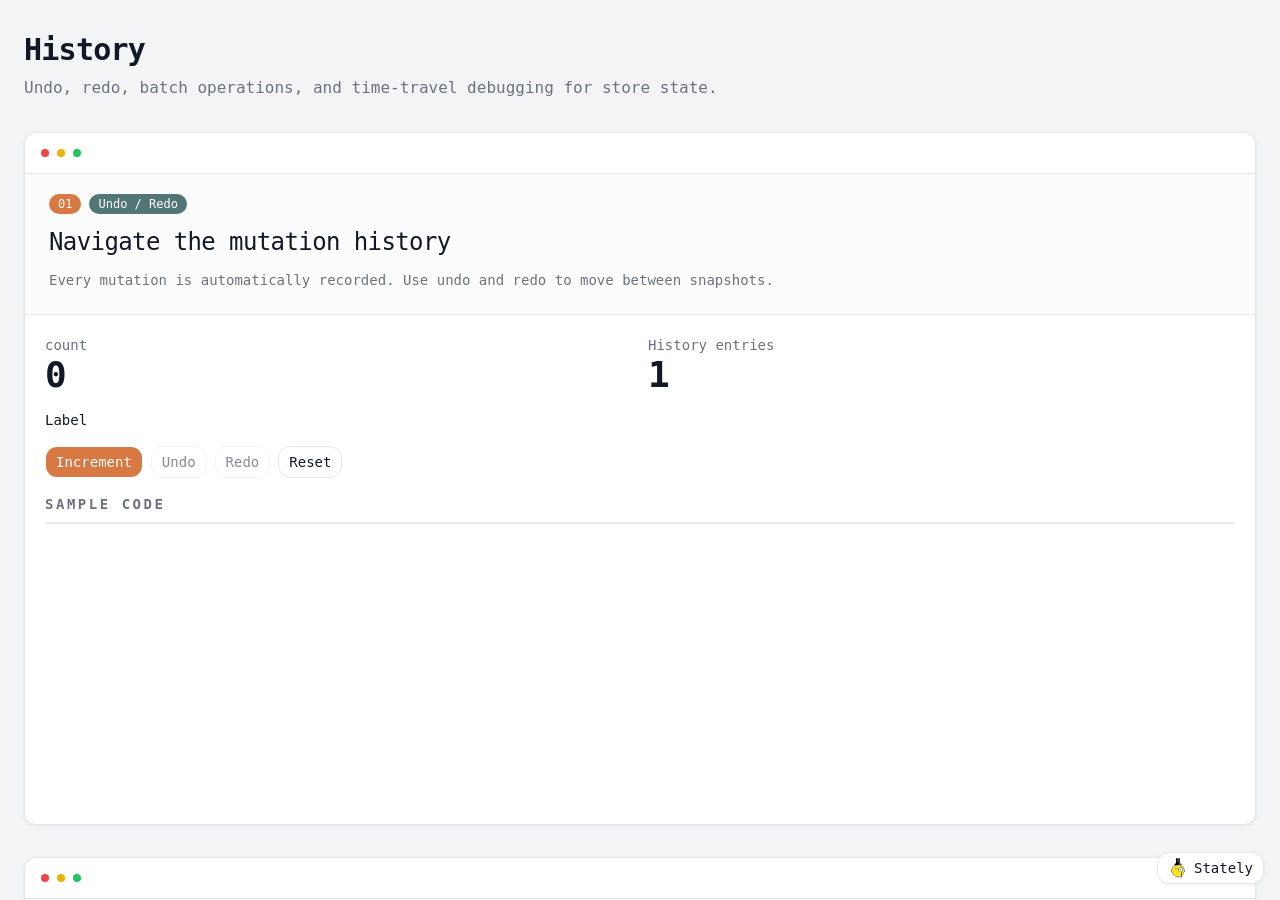
Test case: History page › redo re-applies after undo
Click the button with test id "history-increment". click: (94,462)
box: [45,446,143,478]
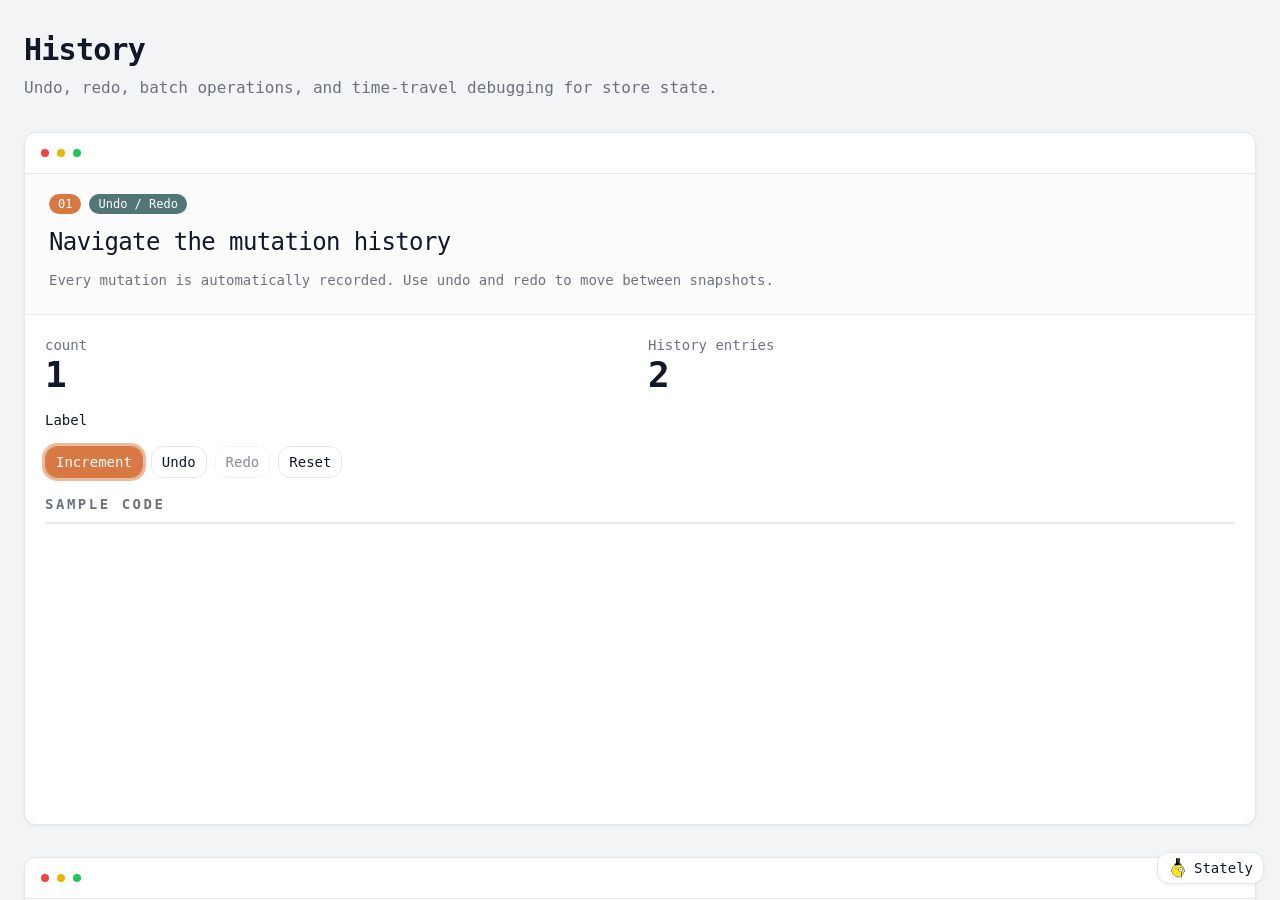
Click the button with test id "history-undo". click: (179,462)
box: [151,446,207,478]
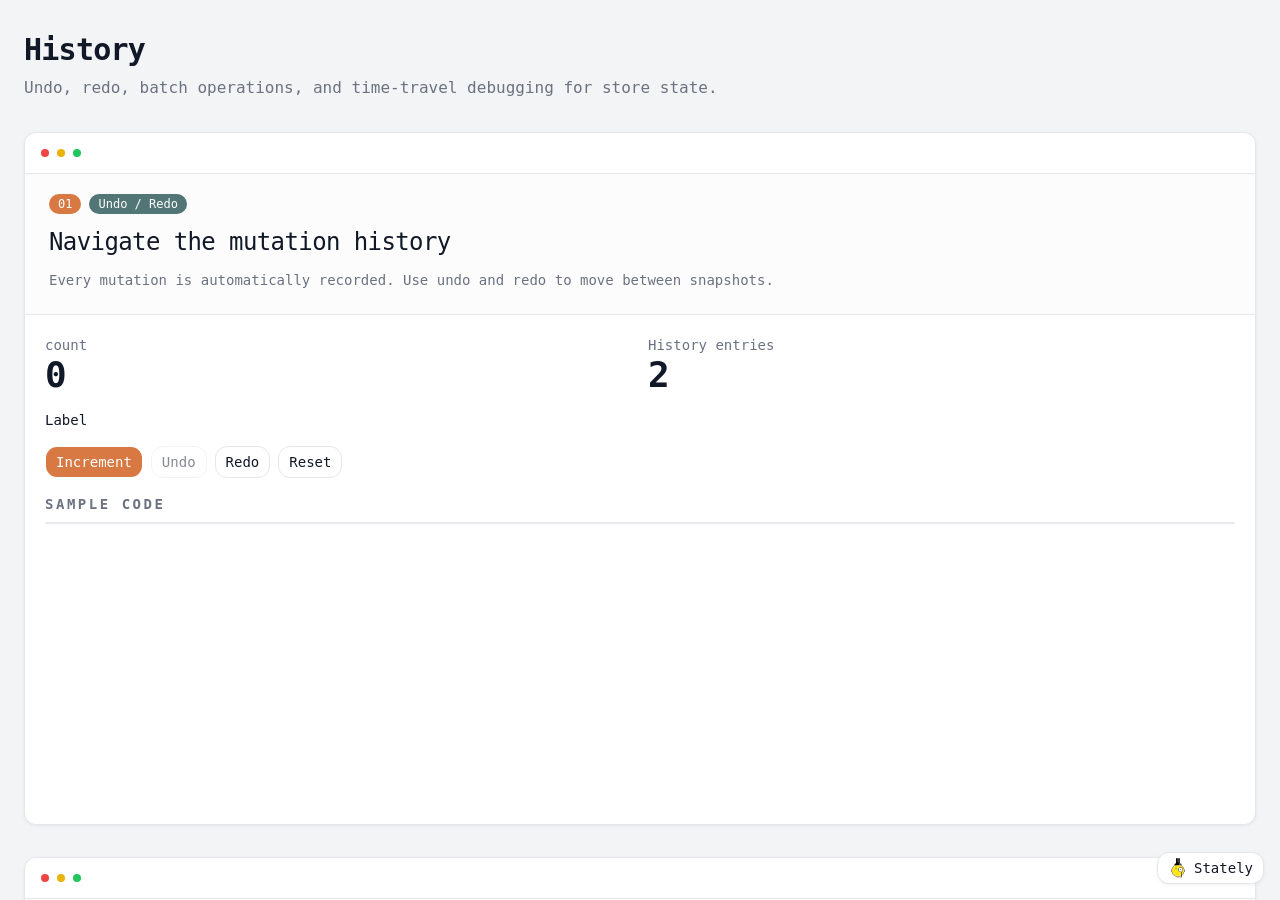
Expected: the text with test id "history-count" reads "0", [45,354,67,395]
Click the button with test id "history-redo". click: (242,462)
box: [215,446,270,478]
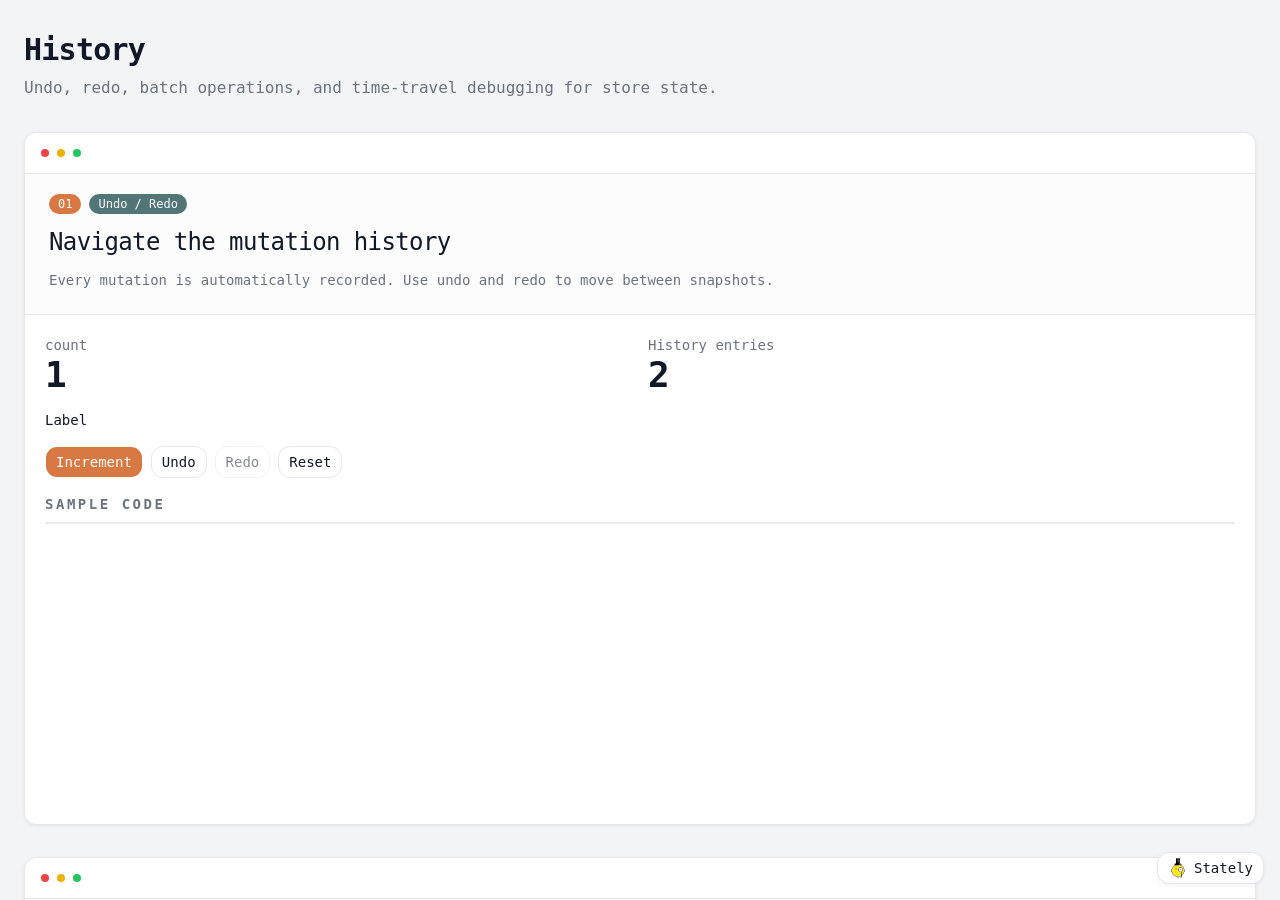
Expected: the text with test id "history-count" reads "1", [45,354,67,395]
